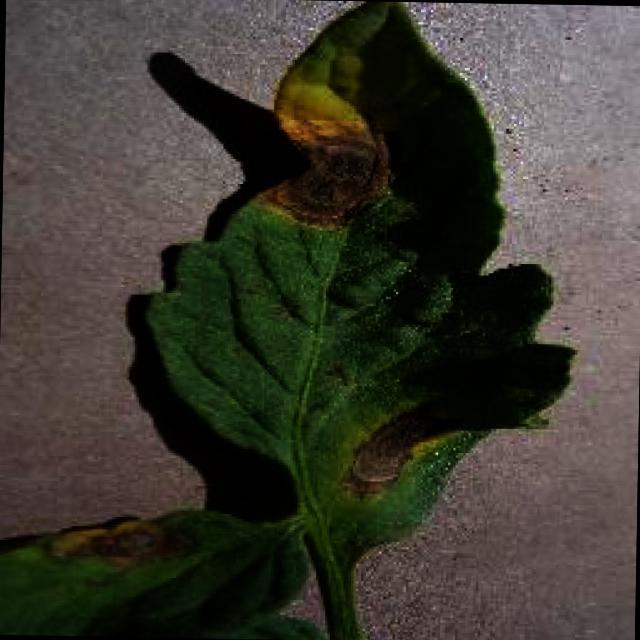Tomato Early blight leaf: (27, 0, 585, 580)
